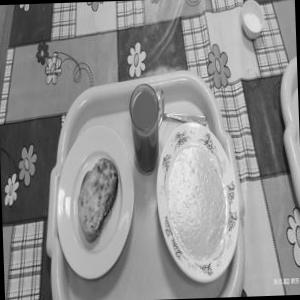cheese_sandwich: (62, 152, 127, 248)
coffee: (122, 79, 172, 176)
porridge: (161, 138, 236, 266)
